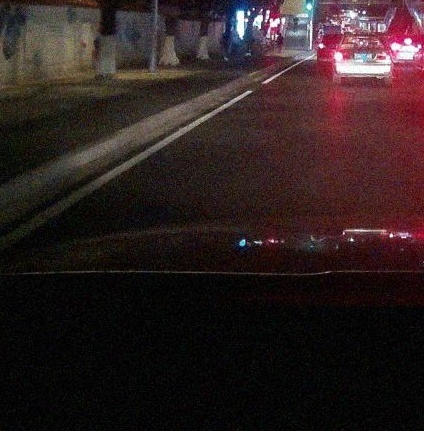L_light: (333, 52, 350, 60)
R_light: (376, 53, 392, 60)
T_light: (359, 36, 369, 38)
night-left: (332, 32, 394, 86)
